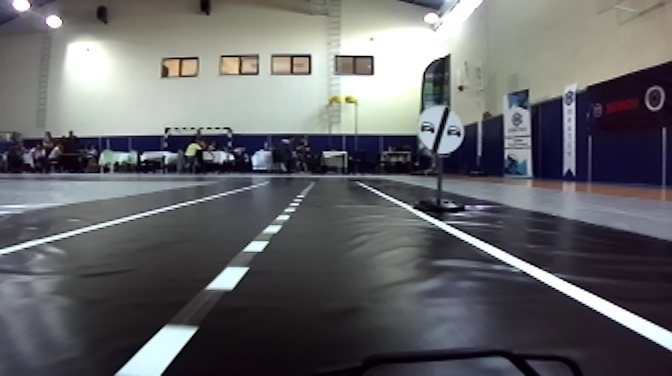sollama_serbest: (416, 105, 461, 151)
